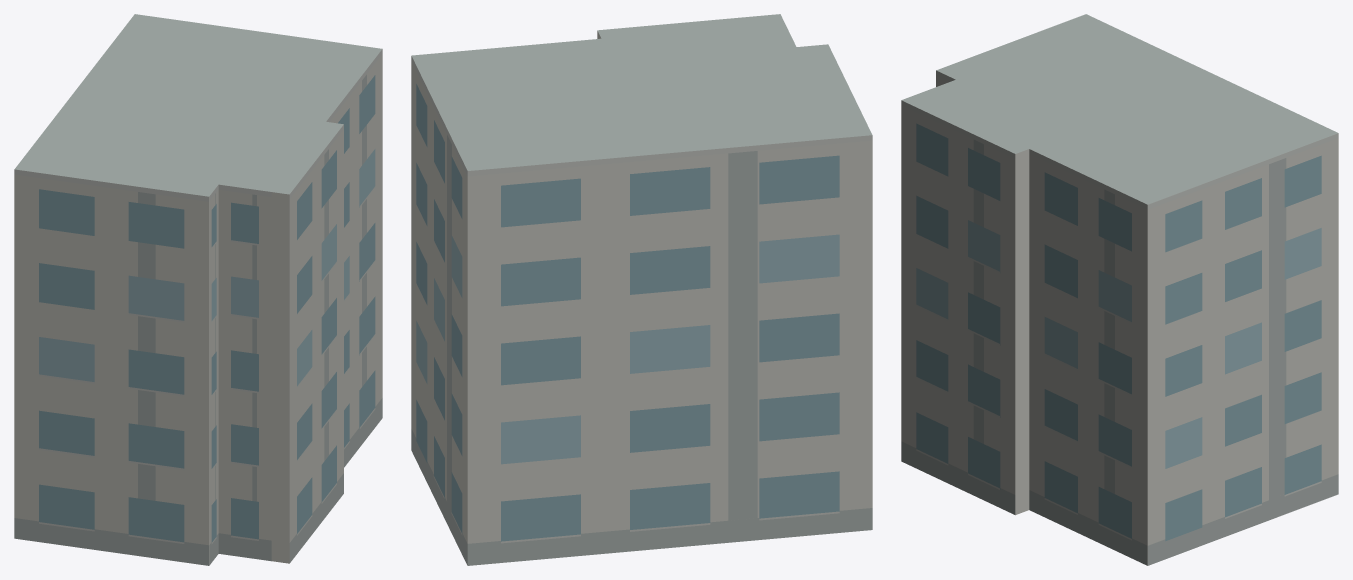
Rendered from survey-upis-32791849.glb.
3 views of the same model, side by side, from view 1: azimuth 30°, elevation 25°; view 2: azimuth 150°, elevation 25°; view 3: azimuth 270°, elevation 25° (orthographic). The views are drawn at different scales.
Parts seen in each view (by area): view 1: survey-upis-32791849.tmp; view 2: survey-upis-32791849.tmp; view 3: survey-upis-32791849.tmp.
Part boxes in pixels (<box>): survey-upis-32791849.tmp: <box>14,14,382,565</box>; survey-upis-32791849.tmp: <box>411,14,872,565</box>; survey-upis-32791849.tmp: <box>901,14,1338,565</box>.
Bounding box in the file's own units: 19.84 × 17.5 × 19.22.
